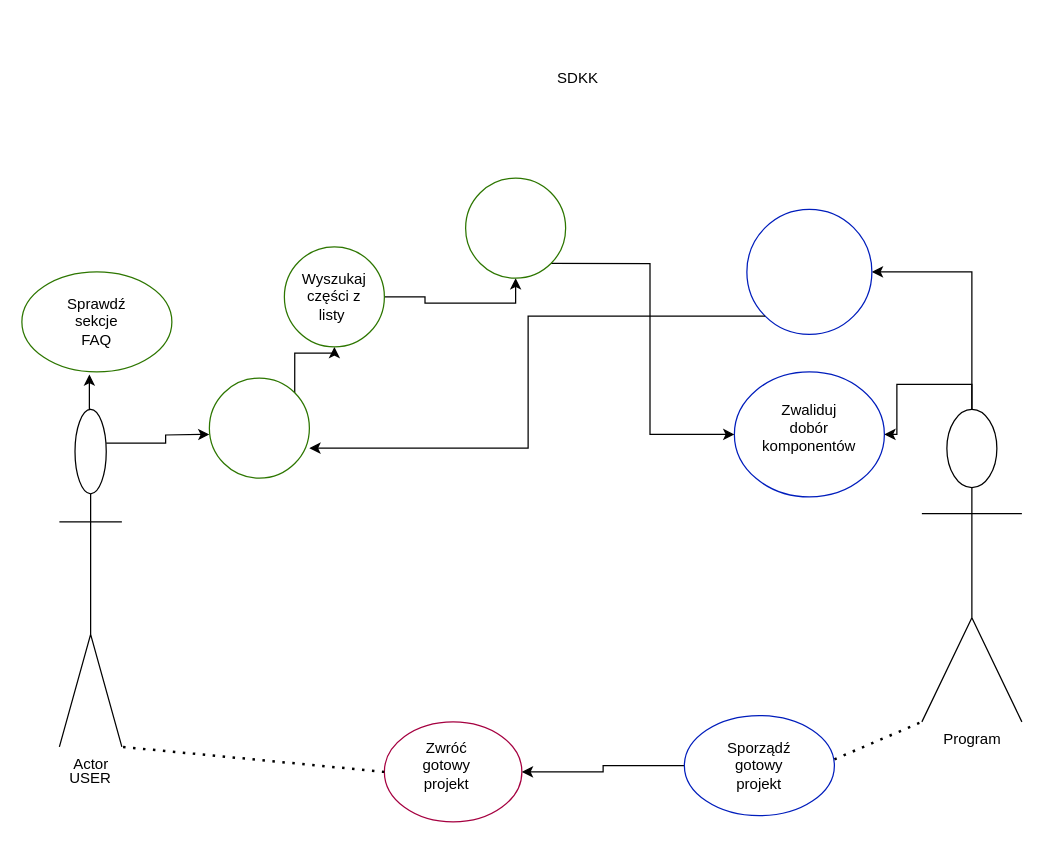
The diagram is 1044 pixels wide and 844 high, and some of its shapes have lost their labels. Here are the shapes that lost their labels. From the top down, the centre of each, then its label:
the point at 515,227: Dodaj żądane komponenty do listy
the point at 809,271: Zarządzanie katalogiem części
the point at 258,427: Otwórz liste komponentów
